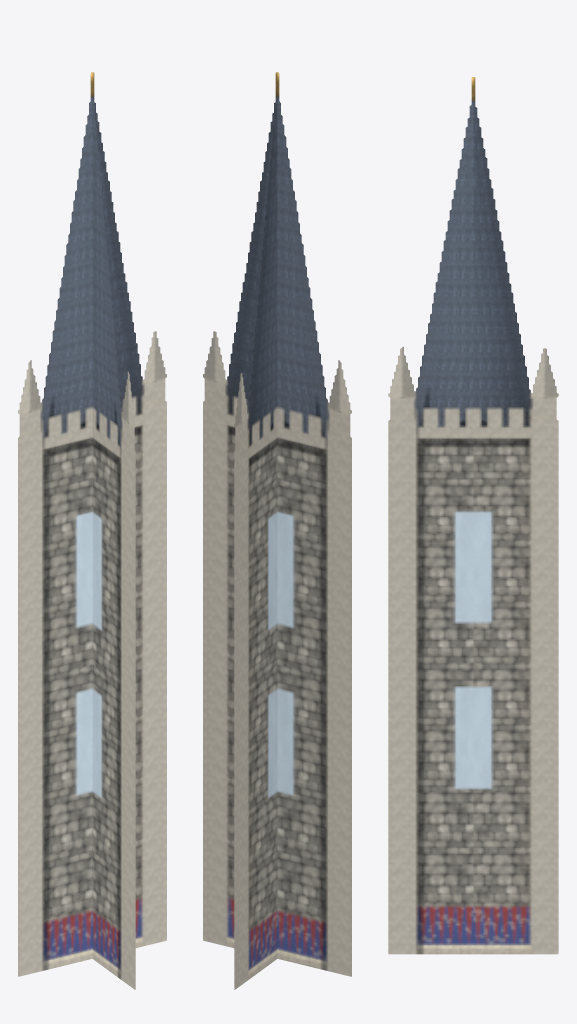
Rendered from Palace_Imperial_Spire_1_BB.gltf.
3 renders of one model, left to right at view 1: azimuth 30°, elevation 25°; view 2: azimuth 150°, elevation 25°; view 3: azimuth 270°, elevation 25°, orthographic.
Visible parts, largest first — view 1: Palace_Imperial_Spire_1_BB; view 2: Palace_Imperial_Spire_1_BB; view 3: Palace_Imperial_Spire_1_BB.
Boxes of the visible parts, x1,y1,x2,y2 form: Palace_Imperial_Spire_1_BB: (18,72,166,989); Palace_Imperial_Spire_1_BB: (203,72,351,989); Palace_Imperial_Spire_1_BB: (388,77,558,954).
Size of the model in its own units: 8.77 by 49.92 by 8.77.
Materials: 1 (1 with a texture image).
